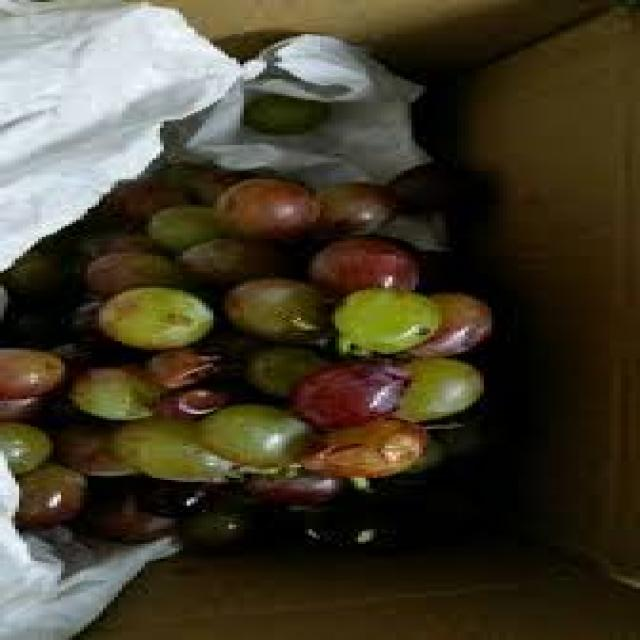organic waste: (286, 356, 408, 431), (110, 412, 240, 482), (195, 401, 312, 467), (301, 414, 419, 476), (328, 284, 434, 352), (172, 233, 294, 290), (221, 271, 324, 337), (210, 175, 316, 239), (95, 286, 206, 345), (301, 237, 415, 290), (76, 480, 168, 540), (72, 363, 164, 418), (8, 241, 95, 299), (408, 290, 488, 352), (400, 356, 476, 421), (228, 467, 343, 508), (15, 461, 80, 531), (122, 478, 225, 520), (308, 179, 388, 233), (46, 418, 118, 472), (80, 248, 171, 290), (57, 222, 156, 260), (244, 342, 316, 391), (240, 94, 331, 132), (0, 343, 61, 399), (160, 160, 251, 196), (172, 510, 252, 550), (141, 202, 202, 252), (133, 348, 221, 382), (118, 181, 187, 220), (0, 420, 46, 474), (160, 382, 229, 414), (0, 386, 50, 418)
